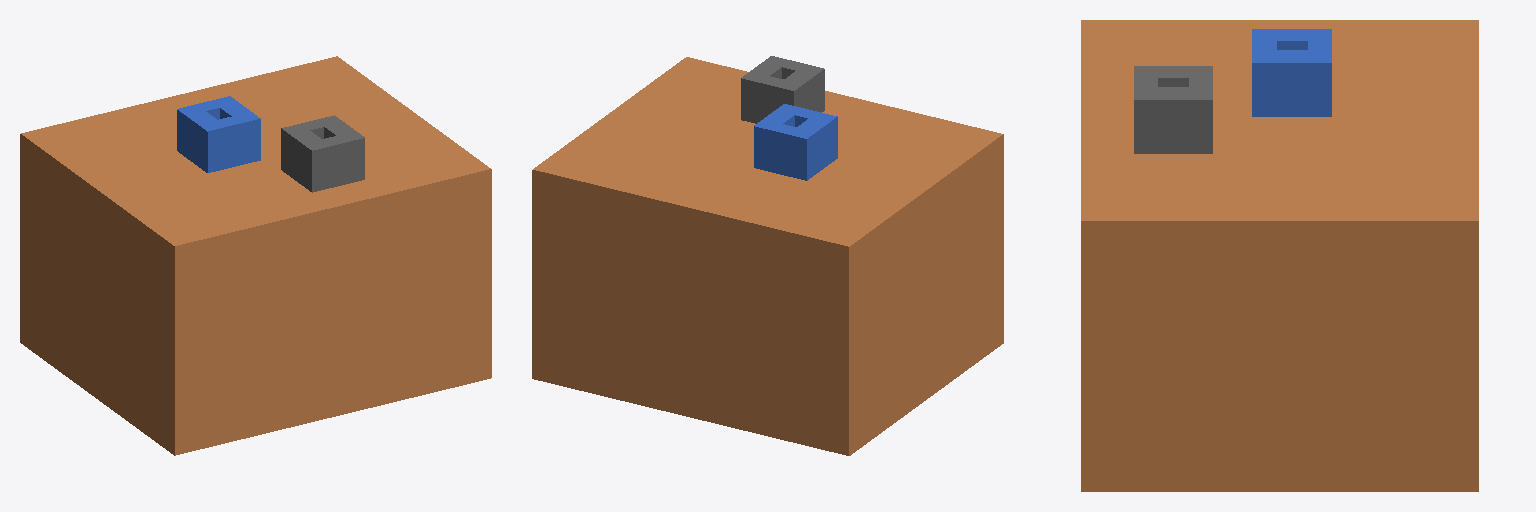
The robot description file, URDF, robot "peg_in_hole_fixtured_scene_0032_peg0019_tol02":
<?xml version="1.0"?>
<robot name="peg_in_hole_fixtured_scene_0032_peg0019_tol02">
  <material name="wood"><color rgba="0.82 0.56 0.35 1.0"/></material>
  <material name="start_fix"><color rgba="0.30 0.50 0.85 1.0"/></material>
  <material name="goal_fix"><color rgba="0.4706 0.4706 0.4706 1.0"/></material>
  <link name="box">
    <visual>
      <origin xyz="0.000000 0.000000 0.000000" rpy="0 0 0"/>
      <geometry><box size="0.475000 0.400000 0.300000"/></geometry>
      <material name="wood"/>
    </visual>
    <collision>
      <origin xyz="0.000000 0.000000 0.000000" rpy="0 0 0"/>
      <geometry><box size="0.475000 0.400000 0.300000"/></geometry>
    </collision>
    <visual>
      <origin xyz="-0.048579 0.012390 0.155000" rpy="0 0 0"/>
      <geometry><box size="0.080000 0.080000 0.010000"/></geometry>
      <material name="start_fix"/>
    </visual>
    <collision>
      <origin xyz="-0.048579 0.012390 0.155000" rpy="0 0 0"/>
      <geometry><box size="0.080000 0.080000 0.010000"/></geometry>
    </collision>
    <visual>
      <origin xyz="-0.023329 0.012390 0.185000" rpy="0 0 0"/>
      <geometry><box size="0.029500 0.080000 0.050000"/></geometry>
      <material name="start_fix"/>
    </visual>
    <collision>
      <origin xyz="-0.023329 0.012390 0.185000" rpy="0 0 0"/>
      <geometry><box size="0.029500 0.080000 0.050000"/></geometry>
    </collision>
    <visual>
      <origin xyz="-0.073829 0.012390 0.185000" rpy="0 0 0"/>
      <geometry><box size="0.029500 0.080000 0.050000"/></geometry>
      <material name="start_fix"/>
    </visual>
    <collision>
      <origin xyz="-0.073829 0.012390 0.185000" rpy="0 0 0"/>
      <geometry><box size="0.029500 0.080000 0.050000"/></geometry>
    </collision>
    <visual>
      <origin xyz="-0.048579 0.040140 0.185000" rpy="0 0 0"/>
      <geometry><box size="0.021000 0.024500 0.050000"/></geometry>
      <material name="start_fix"/>
    </visual>
    <collision>
      <origin xyz="-0.048579 0.040140 0.185000" rpy="0 0 0"/>
      <geometry><box size="0.021000 0.024500 0.050000"/></geometry>
    </collision>
    <visual>
      <origin xyz="-0.048579 -0.015360 0.185000" rpy="0 0 0"/>
      <geometry><box size="0.021000 0.024500 0.050000"/></geometry>
      <material name="start_fix"/>
    </visual>
    <collision>
      <origin xyz="-0.048579 -0.015360 0.185000" rpy="0 0 0"/>
      <geometry><box size="0.021000 0.024500 0.050000"/></geometry>
    </collision>
    <visual>
      <origin xyz="0.039305 -0.106726 0.155000" rpy="0 0 0"/>
      <geometry><box size="0.080000 0.080000 0.010000"/></geometry>
      <material name="goal_fix"/>
    </visual>
    <collision>
      <origin xyz="0.039305 -0.106726 0.155000" rpy="0 0 0"/>
      <geometry><box size="0.080000 0.080000 0.010000"/></geometry>
    </collision>
    <visual>
      <origin xyz="0.064685 -0.106726 0.185000" rpy="0 0 0"/>
      <geometry><box size="0.029240 0.080000 0.050000"/></geometry>
      <material name="goal_fix"/>
    </visual>
    <collision>
      <origin xyz="0.064685 -0.106726 0.185000" rpy="0 0 0"/>
      <geometry><box size="0.029240 0.080000 0.050000"/></geometry>
    </collision>
    <visual>
      <origin xyz="0.013925 -0.106726 0.185000" rpy="0 0 0"/>
      <geometry><box size="0.029240 0.080000 0.050000"/></geometry>
      <material name="goal_fix"/>
    </visual>
    <collision>
      <origin xyz="0.013925 -0.106726 0.185000" rpy="0 0 0"/>
      <geometry><box size="0.029240 0.080000 0.050000"/></geometry>
    </collision>
    <visual>
      <origin xyz="0.039305 -0.078846 0.185000" rpy="0 0 0"/>
      <geometry><box size="0.021520 0.024240 0.050000"/></geometry>
      <material name="goal_fix"/>
    </visual>
    <collision>
      <origin xyz="0.039305 -0.078846 0.185000" rpy="0 0 0"/>
      <geometry><box size="0.021520 0.024240 0.050000"/></geometry>
    </collision>
    <visual>
      <origin xyz="0.039305 -0.134606 0.185000" rpy="0 0 0"/>
      <geometry><box size="0.021520 0.024240 0.050000"/></geometry>
      <material name="goal_fix"/>
    </visual>
    <collision>
      <origin xyz="0.039305 -0.134606 0.185000" rpy="0 0 0"/>
      <geometry><box size="0.021520 0.024240 0.050000"/></geometry>
    </collision>
    <inertial>
      <mass value="500"/>
      <friction value="1.0"/>
      <inertia ixx="1000.0" ixy="0.0" ixz="0.0" iyy="1000.0" iyz="0.0" izz="1000.0"/>
    </inertial>
  </link>
</robot>

--- Render facts (derived) ---
Views: 3 orthographic renders of the robot side by side, from view 1: azimuth 30°, elevation 25°; view 2: azimuth 150°, elevation 25°; view 3: azimuth 270°, elevation 25°.
Model peg_in_hole_fixtured_scene_0032_peg0019_tol02 with 1 links and 0 joints (none), rooted at box, posed all joints at 0.
Links seen in each view (by area): view 1: box; view 2: box; view 3: box.
Link boxes in pixels (bbox=[...]): box: bbox=[20, 56, 491, 455]; box: bbox=[532, 56, 1003, 455]; box: bbox=[1081, 20, 1478, 491].
Size in the robot's own frame: 0.475 by 0.4 by 0.36 metres.
Geometry: primitives only (box / cylinder / sphere), no mesh files.
